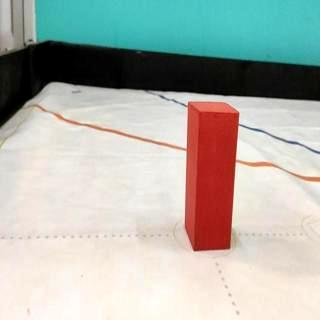redbox: (186, 100, 240, 252)
